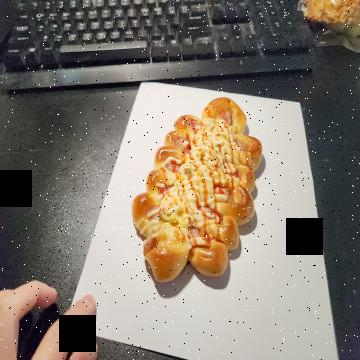pizza_bread: (131, 97, 262, 285)
